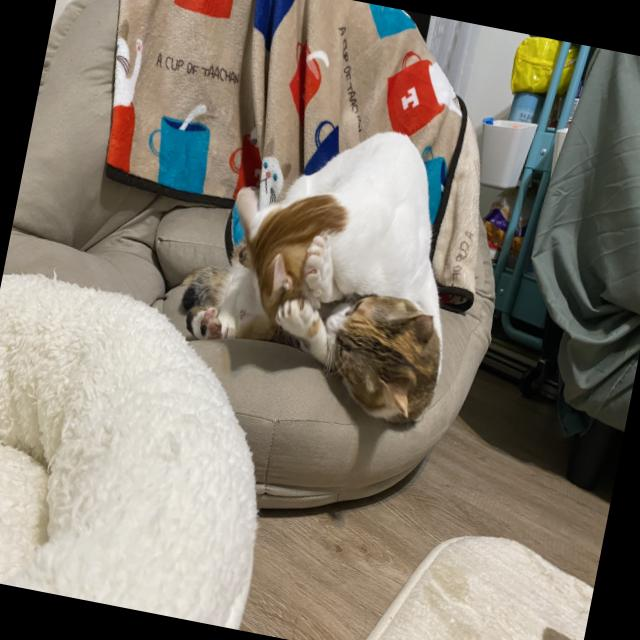cat1: (220, 114, 469, 328)
cat2: (152, 228, 456, 441)
